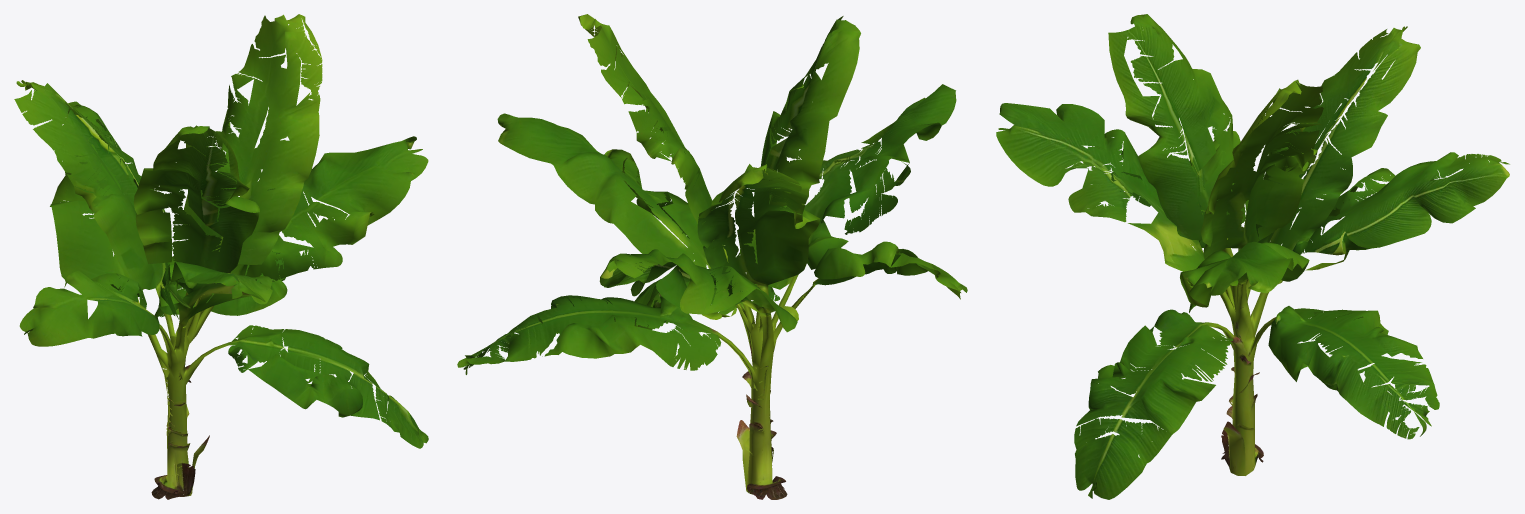
Rendered from bananaplant_1.full.glb.
3 views of the same model, side by side, from view 1: azimuth 30°, elevation 25°; view 2: azimuth 150°, elevation 25°; view 3: azimuth 270°, elevation 25° (orthographic). The views are drawn at different scales.
Parts seen in each view (by area): view 1: model; view 2: model; view 3: model.
Boxes of the visible parts, box(x1,y1,x2,y2) form: model: box(14, 14, 428, 499); model: box(457, 14, 967, 499); model: box(996, 14, 1509, 499).
Bounding box in the file's own units: 0.9927 × 0.98 × 0.9995.
Materials: 2 (2 with a texture image).
